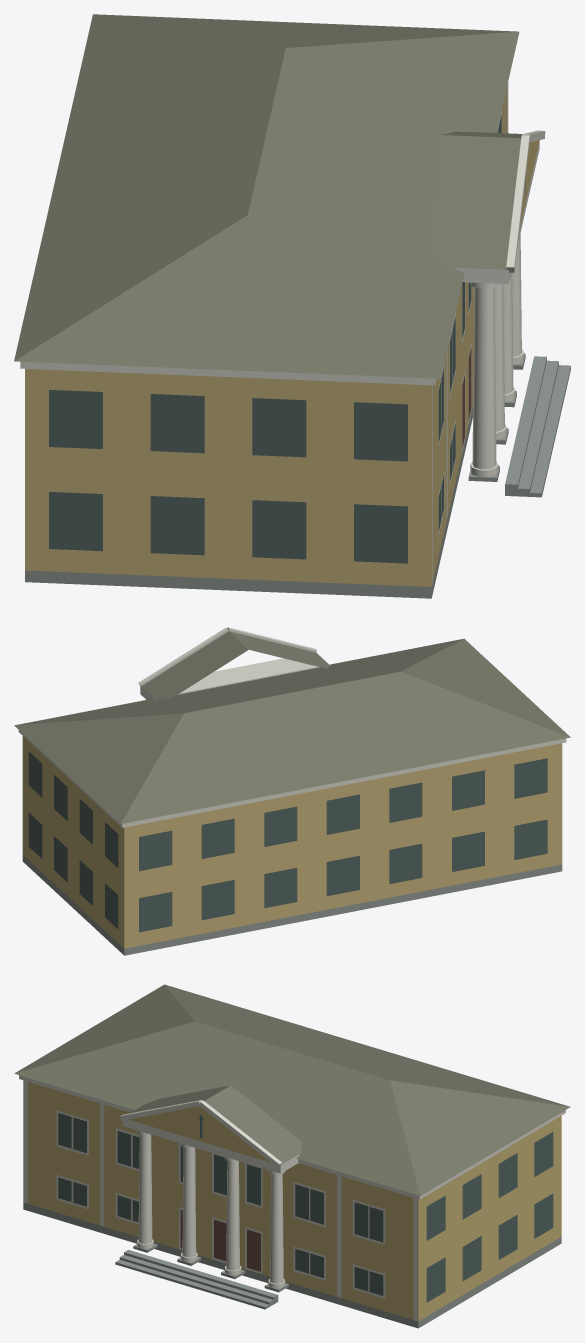
File: fort-langley-community-hall-far.glb
3 views of the same model, one above another, from view 1: azimuth 30°, elevation 25°; view 2: azimuth 150°, elevation 25°; view 3: azimuth 270°, elevation 25° (orthographic). The views are drawn at different scales.
Parts seen in each view (by area): view 1: fort-langley-community-hall-0-roof, fort-langley-community-hall-0-stone, fort-langley-community-hall-0-glass, fort-langley-community-hall-0-trim, fort-langley-community-hall-0-plinth; view 2: fort-langley-community-hall-0-roof, fort-langley-community-hall-0-stone, fort-langley-community-hall-0-glass, fort-langley-community-hall-0-trim, fort-langley-community-hall-0-plinth; view 3: fort-langley-community-hall-0-roof, fort-langley-community-hall-0-stone, fort-langley-community-hall-0-trim, fort-langley-community-hall-0-glass, fort-langley-community-hall-0-plinth, fort-langley-community-hall-0-door.
Part boxes in pixels (x1,y1,x2,y2): fort-langley-community-hall-0-roof: (14,14,521,378); fort-langley-community-hall-0-stone: (25,86,539,586); fort-langley-community-hall-0-glass: (49,115,501,563); fort-langley-community-hall-0-trim: (20,82,545,584); fort-langley-community-hall-0-plinth: (25,353,570,598); fort-langley-community-hall-0-roof: (14,631,570,823); fort-langley-community-hall-0-stone: (22,736,562,948); fort-langley-community-hall-0-glass: (28,751,547,932); fort-langley-community-hall-0-trim: (18,627,566,827); fort-langley-community-hall-0-plinth: (22,855,562,955); fort-langley-community-hall-0-roof: (14,984,570,1195); fort-langley-community-hall-0-stone: (23,1080,561,1321); fort-langley-community-hall-0-trim: (19,1075,565,1320); fort-langley-community-hall-0-glass: (58,1113,553,1302); fort-langley-community-hall-0-plinth: (23,1202,561,1328); fort-langley-community-hall-0-door: (180,1210,260,1271).
Size of the model in its own units: 28.87 by 11.43 by 32.1.
